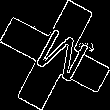M_SW: (23, 22, 87, 88)
